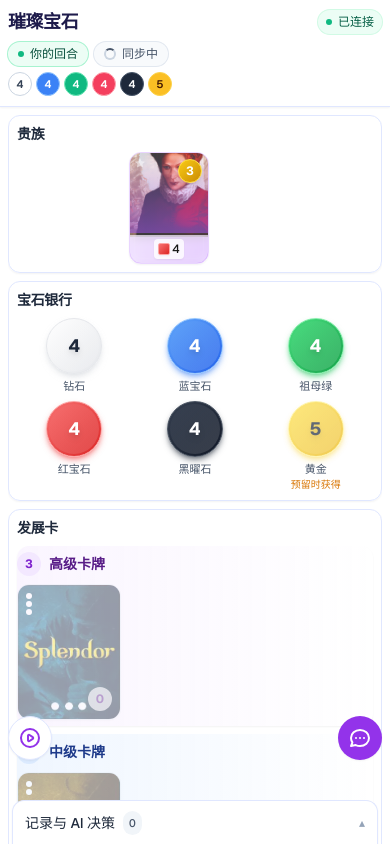
it: GameBoard layout › shares a status bar and keeps history in a collapsed sheet without a blocking overlay
Check: the header with test id "game-status-bar" is shown, box [0, 0, 389, 107]
Check: the element with test id "turn-indicator" reads "你的回合", box [30, 46, 78, 62]
Click the button with test id "insight-sheet-toggle": (70, 822) [12, 800, 378, 843]
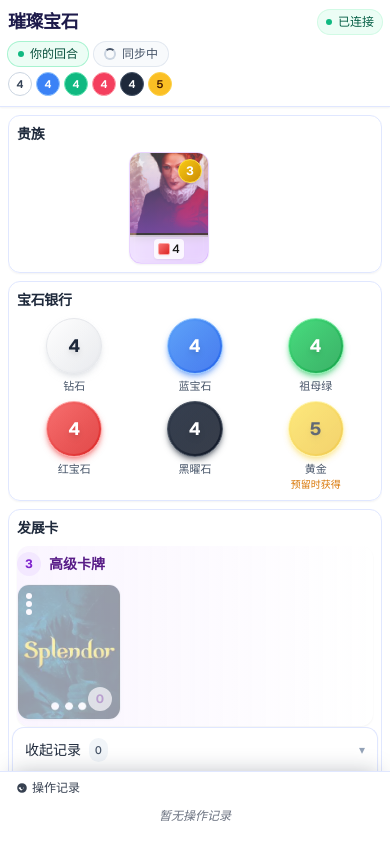
Check: the button with test id "insight-sheet-toggle" is expanded, box [12, 727, 378, 771]
Check: the element with test id "insight-sheet-panel" is shown, box [0, 771, 389, 843]
Check: the text "暂无操作记录" is shown, box [159, 808, 231, 824]
